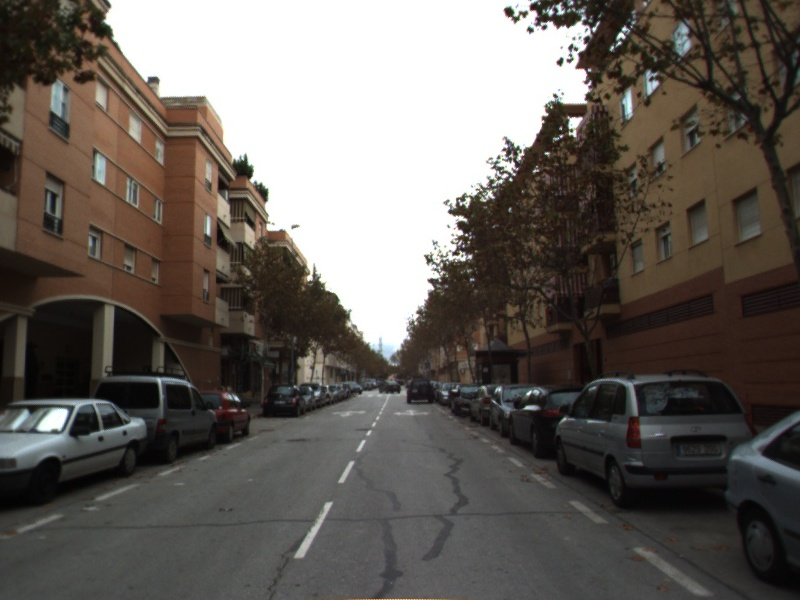STRAIGHT_LEFT_RIGHT: (391, 407, 433, 418)
